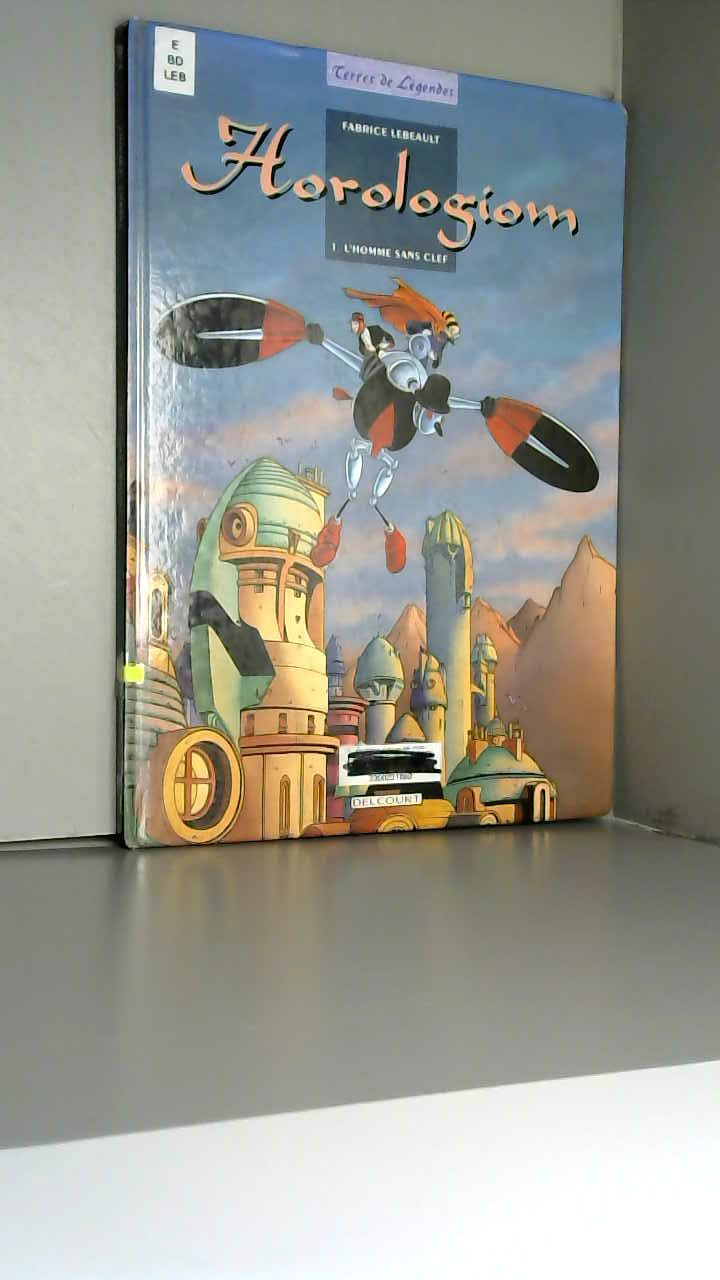book: (90, 0, 720, 920)
